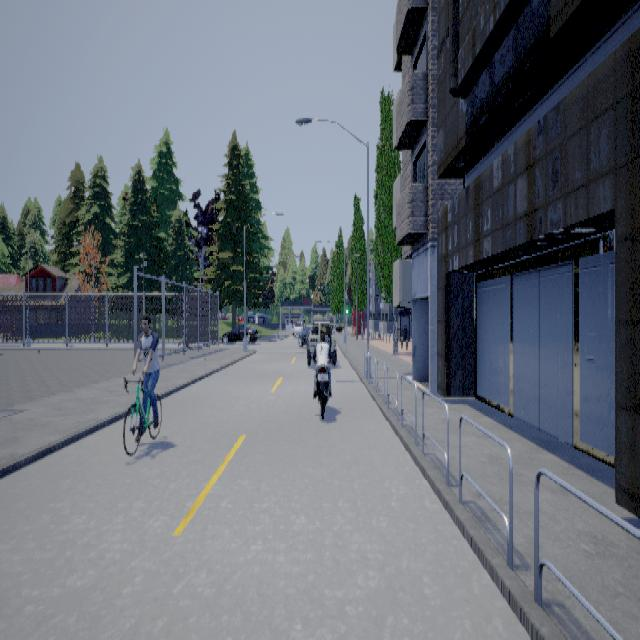bike: (123, 305, 165, 453)
green_light: (344, 295, 348, 313)
motobike: (311, 332, 334, 416)
vehicle: (292, 316, 336, 366)
